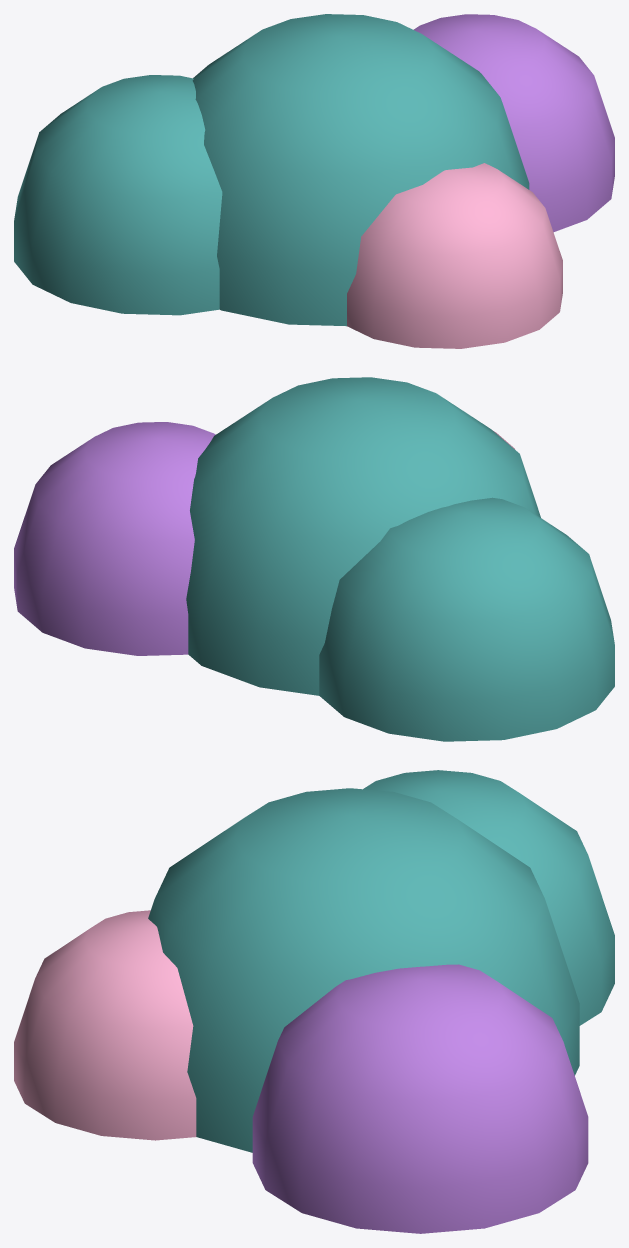
Rendered from GumdropBush_A.fbx.
The picture shows the model from 3 angles, top to bottom: view 1: azimuth 30°, elevation 25°; view 2: azimuth 150°, elevation 25°; view 3: azimuth 270°, elevation 25°; orthographic projection. The views are drawn at different scales.
Parts seen in each view (by area): view 1: GumdropBush_A; view 2: GumdropBush_A; view 3: GumdropBush_A.
Part boxes in pixels (x1,y1,x2,y2): GumdropBush_A: (14, 14, 614, 348); GumdropBush_A: (14, 377, 614, 741); GumdropBush_A: (14, 770, 614, 1233).
Size of the model in its own units: 4.35 by 1.56 by 3.4.
